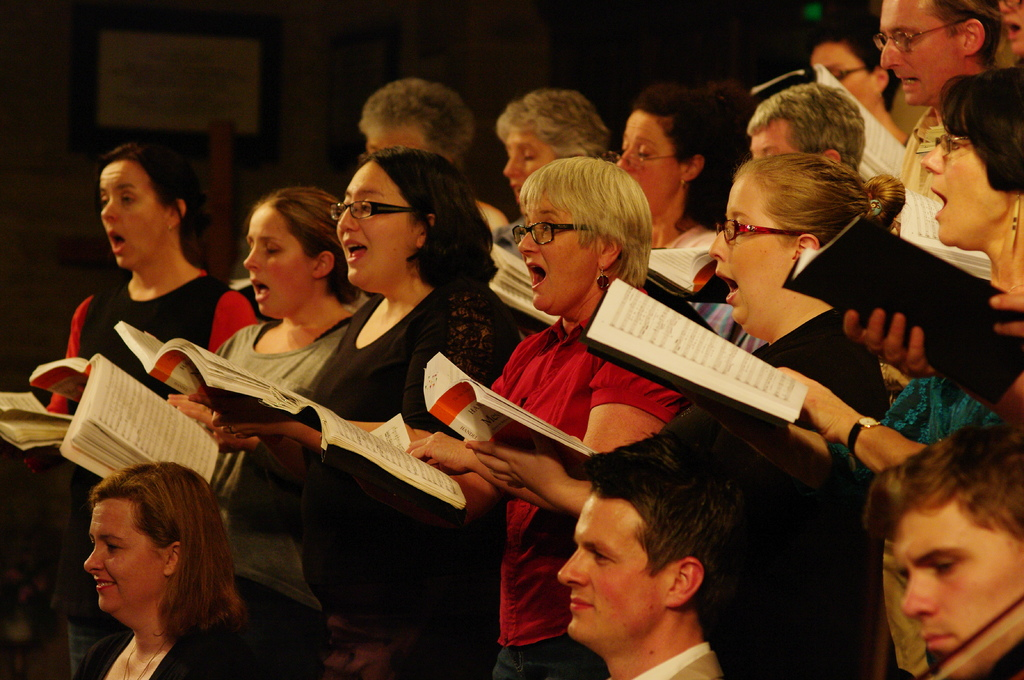face: (746, 121, 811, 181)
